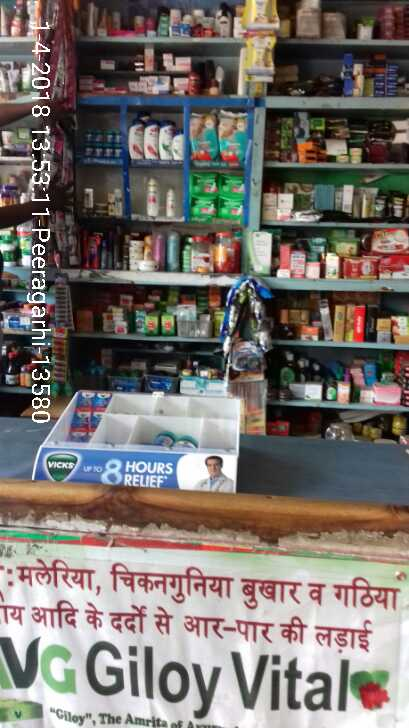vicks: (86, 128, 121, 158)
